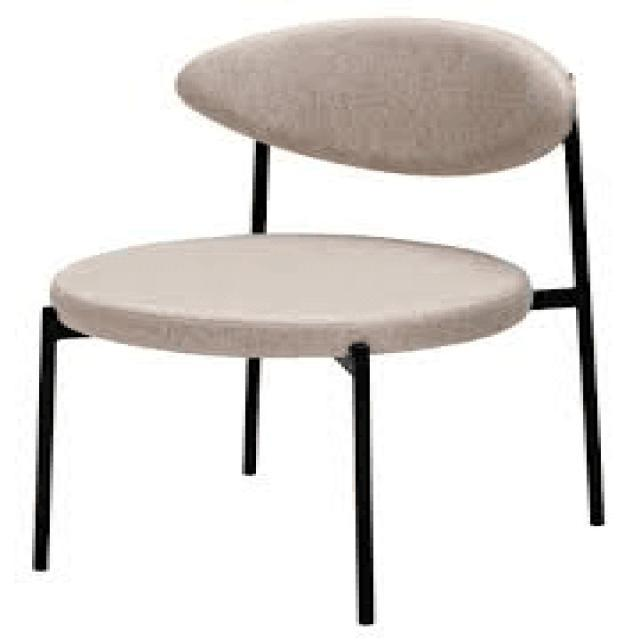chair: (26, 9, 619, 626), (28, 15, 579, 360)
